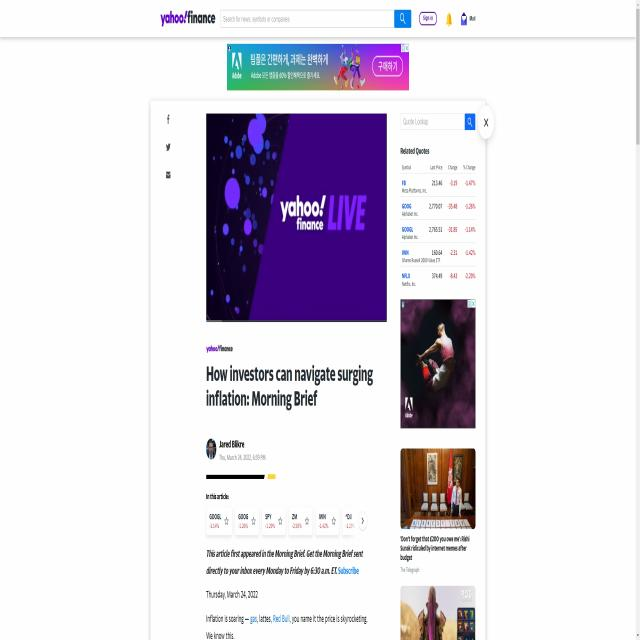menu-bar: (418, 5, 480, 30)
search: (220, 4, 412, 33)
side-panel: (398, 107, 478, 639)
